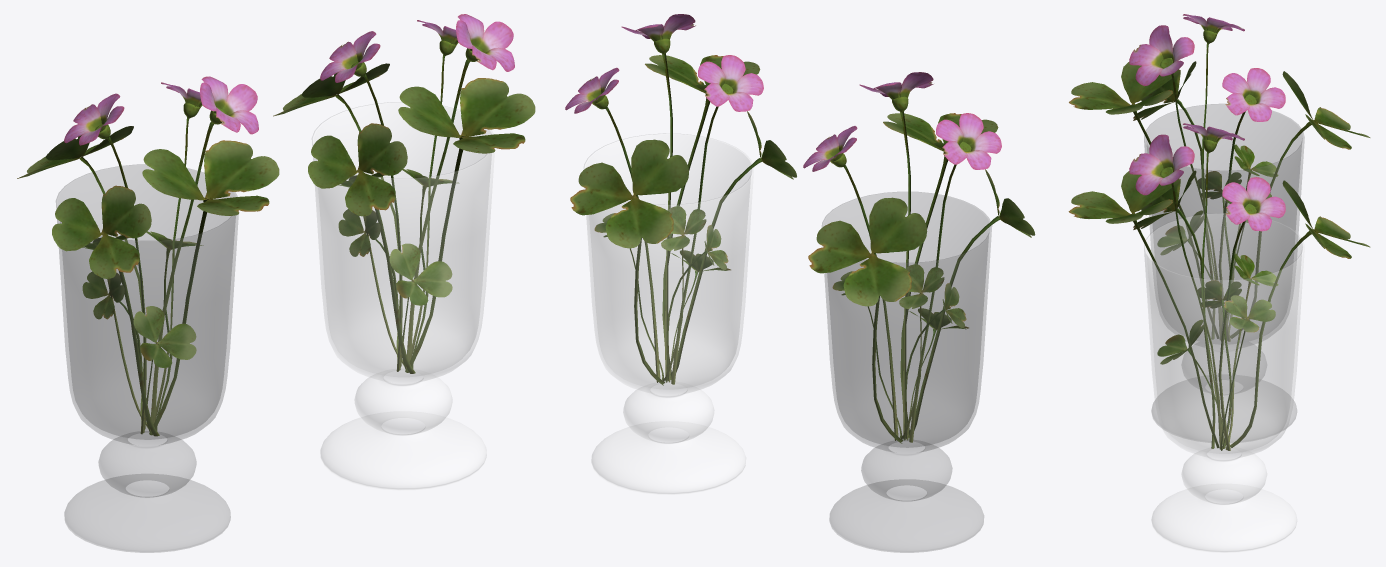
Rendered from vase_flowers.glb.
3 renders of one model, left to right at view 1: azimuth 30°, elevation 25°; view 2: azimuth 150°, elevation 25°; view 3: azimuth 270°, elevation 25°, orthographic. The views are drawn at different scales.
Parts seen in each view (by area): view 1: GlassAlpha, GlassTransmission, Flowers2, Flowers1; view 2: GlassAlpha, GlassTransmission, Flowers2, Flowers1; view 3: GlassTransmission, GlassAlpha, Flowers2, Flowers1.
Boxes of the visible parts, x1,y1,x2,y2 form: GlassAlpha: (56, 164, 238, 552); GlassTransmission: (312, 102, 494, 490); Flowers2: (273, 14, 535, 373); Flowers1: (17, 76, 279, 436); GlassAlpha: (822, 192, 991, 552); GlassTransmission: (584, 133, 753, 494); Flowers2: (565, 14, 796, 385); Flowers1: (803, 72, 1035, 443); GlassTransmission: (1144, 213, 1304, 552); GlassAlpha: (1144, 104, 1304, 442); Flowers2: (1068, 123, 1370, 450); Flowers1: (1069, 14, 1370, 341).
Bounding box in the file's own units: 0.2173 × 0.2032 × 0.1425.
Materials: 3 (1 with a texture image).
